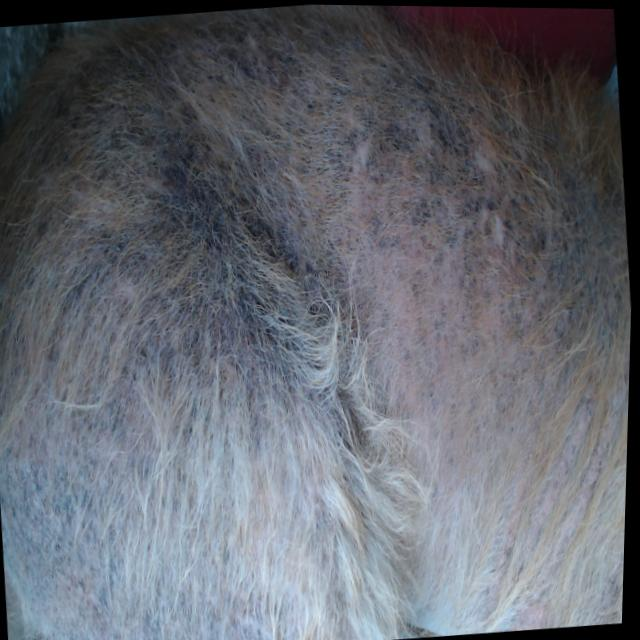demodicosis: (336, 105, 556, 462), (6, 468, 178, 626)
